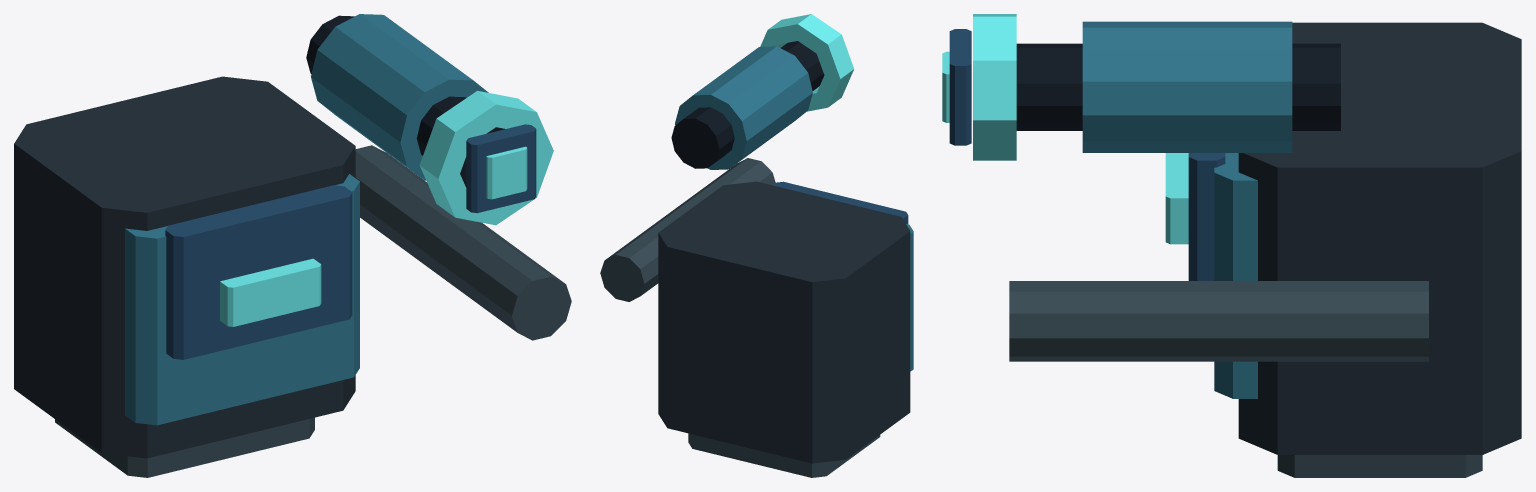
The model's file is enemy_marksman_lod_body.obj.
The picture shows the model from 3 angles, left to right: view 1: azimuth 30°, elevation 25°; view 2: azimuth 150°, elevation 25°; view 3: azimuth 270°, elevation 25°; orthographic projection. The views are drawn at different scales.
Size of the model in its own units: 0.9845 by 1.1 by 1.19.
